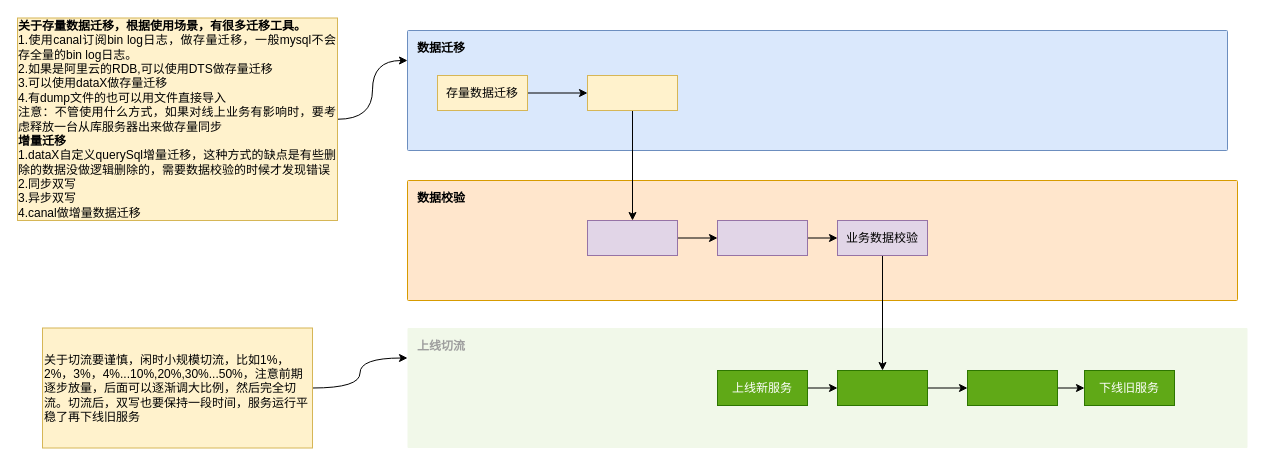
This 1265x465 diagram has some shape labels left out. Each missing label, with the centre of its shape:
"全量数据校验" belongs at point 632,238.
"增量数据校验" belongs at point 762,238.
"增量数据迁移" belongs at point 632,92.
"完全切流" belongs at point 1012,388.
"小规模切流" belongs at point 882,388.
